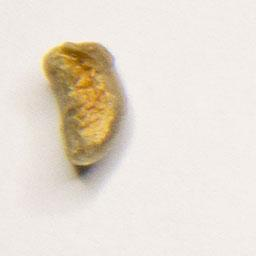defect: (37, 33, 134, 177)
